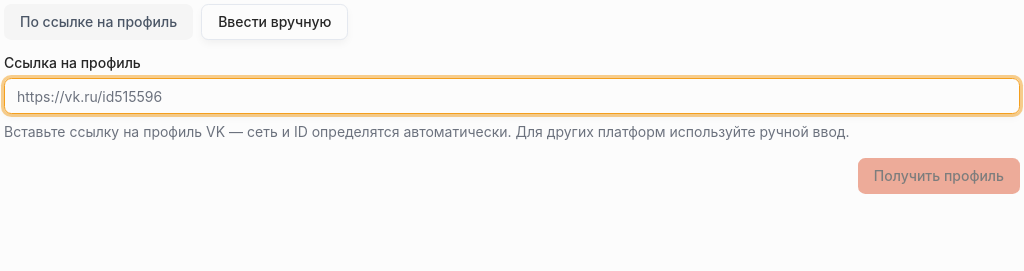
preserves the URL after provider failure and allows retry
In the field labelled "Ссылка на профиль": point(512, 96) [4, 78, 1020, 114], type "https://vk.com/alias"
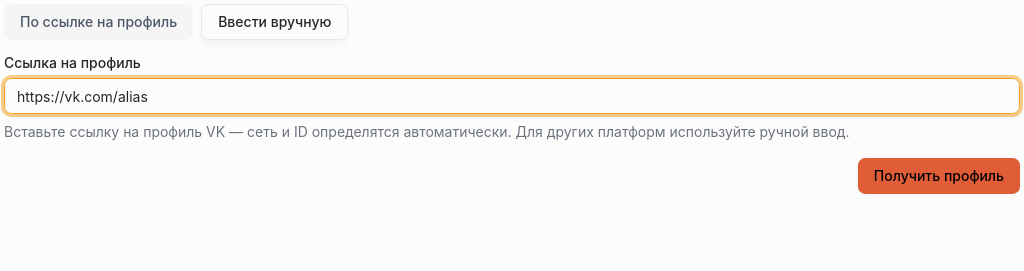
Click the button "Получить профиль": point(939, 176) [858, 158, 1020, 194]
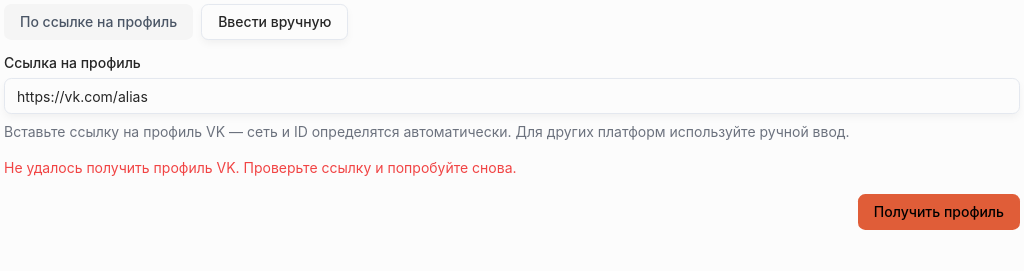
Now the message "Не удалось получить профиль VK. Проверьте ссылку и попробуйте снова." is shown, box [4, 159, 517, 176]
Click the button "Получить профиль": point(939, 212) [858, 194, 1020, 230]
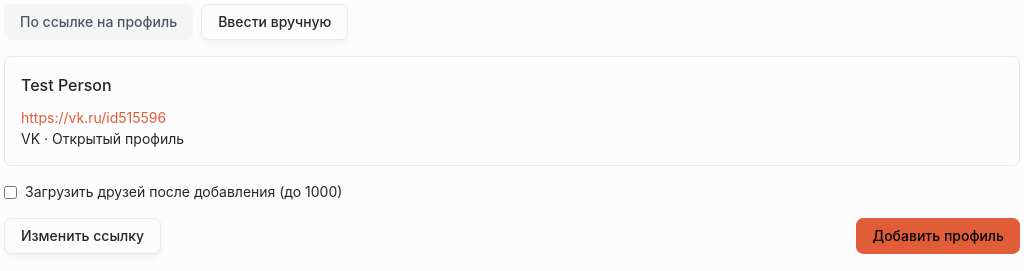
Now the text "Test Person" is shown, box [21, 75, 112, 95]
